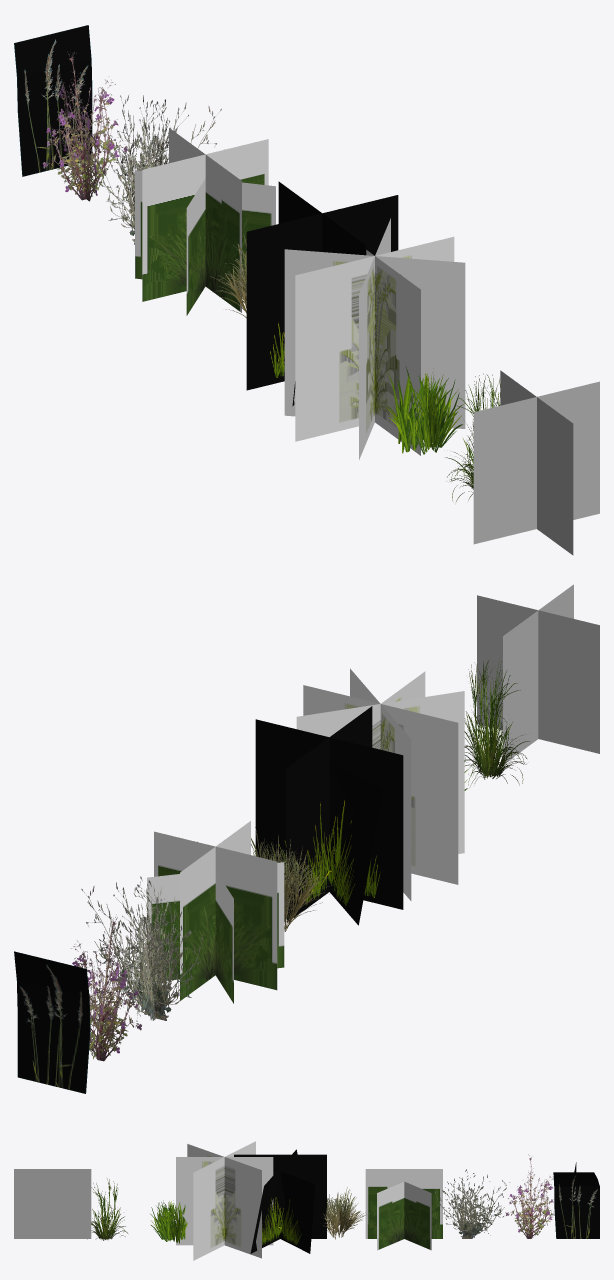
The model's file is Grass pack.fbx.
3 views of the same model, one above another, from view 1: azimuth 30°, elevation 25°; view 2: azimuth 150°, elevation 25°; view 3: azimuth 270°, elevation 25° (orthographic). The views are drawn at different scales.
Parts seen in each view (by area): view 1: Grass 4, Grass 1, Grass 7, Grass 5, Grass 10, Grass 9, Grass 3, Grass 8, Grass 2, Grass 6; view 2: Grass 5, Grass 7, Grass 1, Grass 4, Grass 10, Grass 8, Grass 2, Grass 9, Grass 6; view 3: Grass 4, Grass 5, Grass 7, Grass 1, Grass 10, Grass 8, Grass 9, Grass 6, Grass 3, Grass 2.
Part boxes in pixels (<box>): Grass 4: <box>284,218,465,459</box>; Grass 1: <box>473,370,599,555</box>; Grass 7: <box>135,128,275,315</box>; Grass 5: <box>246,181,398,406</box>; Grass 10: <box>14,25,92,176</box>; Grass 9: <box>42,51,127,201</box>; Grass 3: <box>386,366,464,454</box>; Grass 8: <box>97,95,221,244</box>; Grass 2: <box>445,373,500,501</box>; Grass 6: <box>210,234,246,318</box>; Grass 5: <box>255,706,403,925</box>; Grass 7: <box>147,821,284,1003</box>; Grass 1: <box>477,584,599,763</box>; Grass 4: <box>296,668,464,900</box>; Grass 10: <box>14,951,90,1093</box>; Grass 8: <box>81,876,202,1027</box>; Grass 2: <box>464,659,529,786</box>; Grass 9: <box>71,914,141,1061</box>; Grass 6: <box>251,827,332,931</box>; Grass 4: <box>176,1141,273,1260</box>; Grass 5: <box>234,1149,326,1253</box>; Grass 7: <box>365,1169,442,1250</box>; Grass 1: <box>14,1169,91,1238</box>; Grass 10: <box>553,1162,599,1238</box>; Grass 8: <box>434,1169,510,1238</box>; Grass 9: <box>506,1154,554,1238</box>; Grass 6: <box>323,1187,369,1239</box>; Grass 3: <box>150,1200,187,1243</box>; Grass 2: <box>87,1178,127,1240</box>.
Size of the model in its own units: 166 by 169 by 976.
